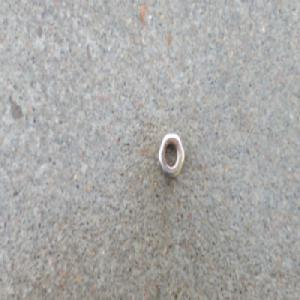Nut: (157, 130, 185, 178)
